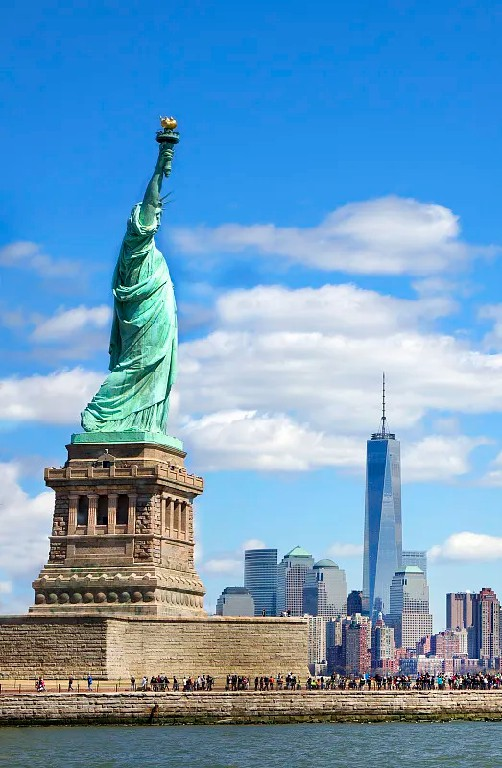SL: (28, 116, 206, 618)
